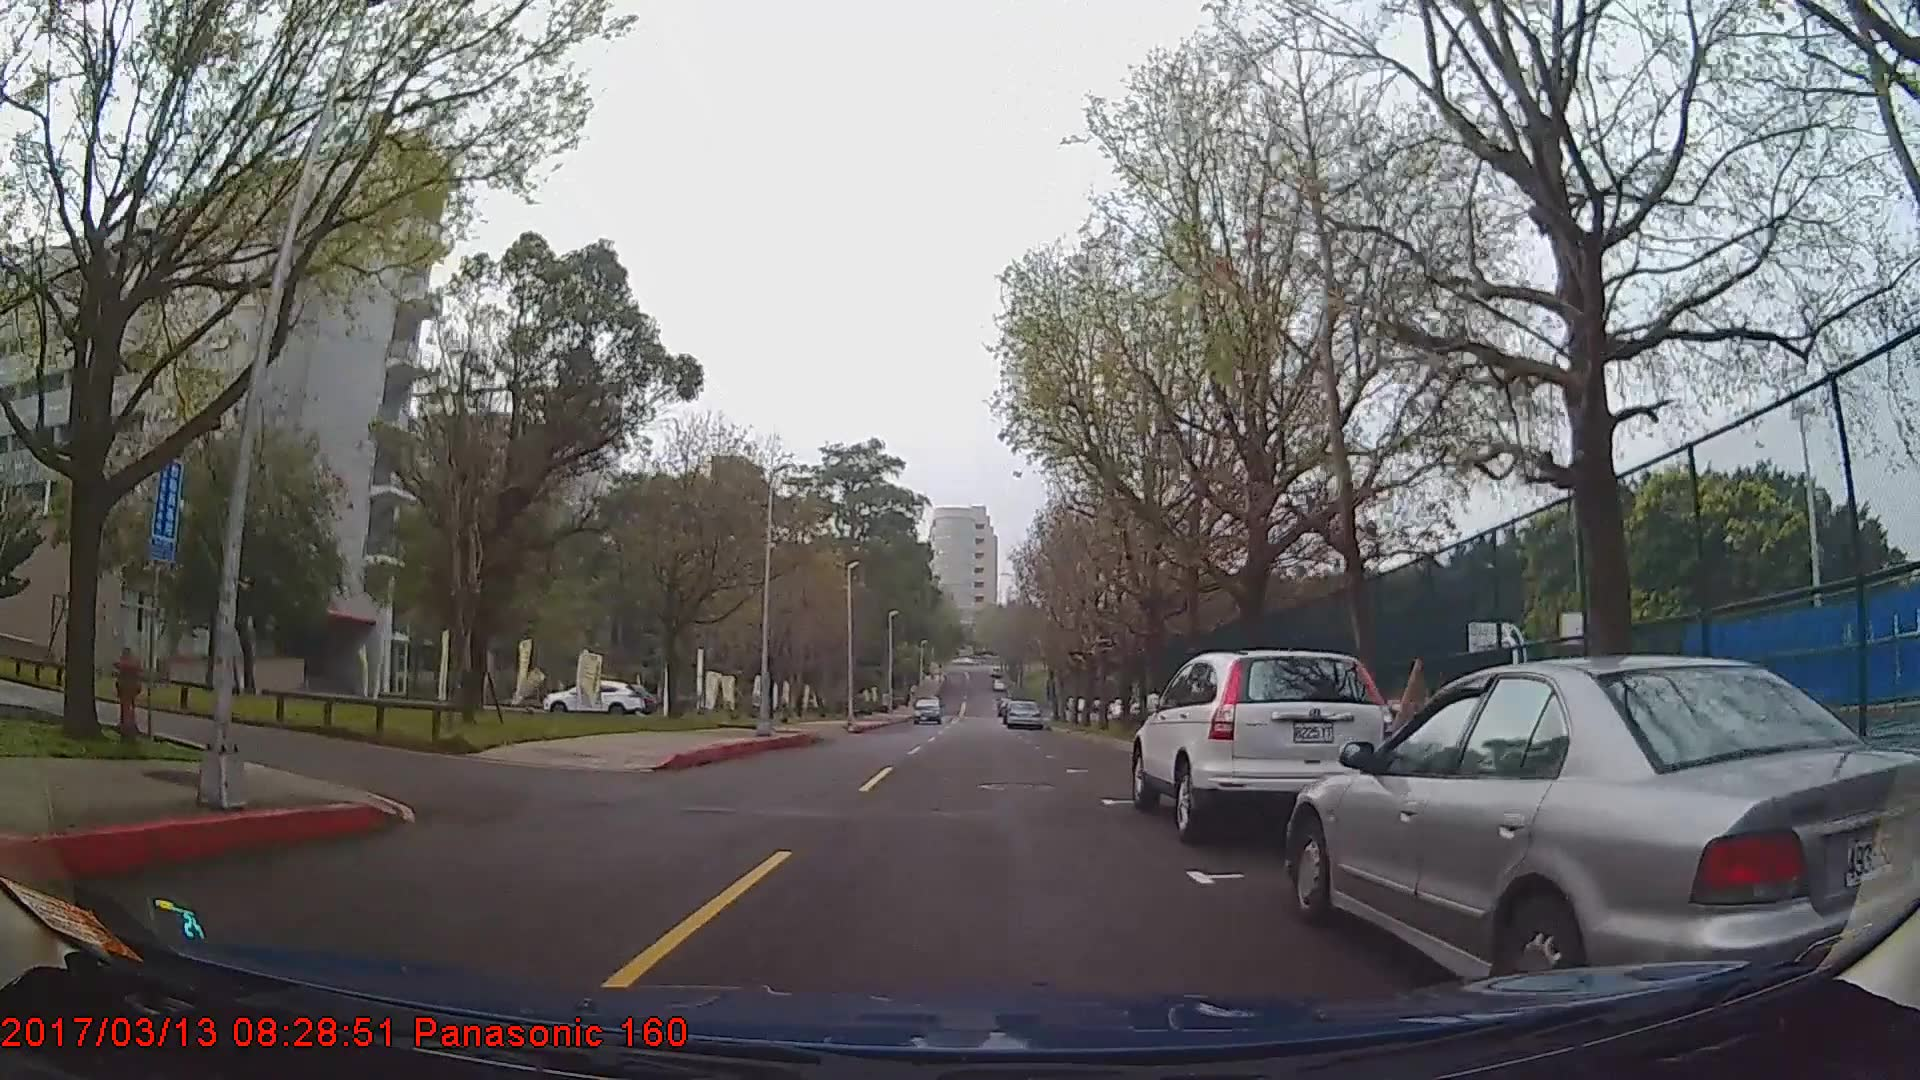vehicle: (1284, 651, 1920, 1023), (1131, 651, 1394, 843), (541, 676, 645, 716), (1004, 698, 1040, 729), (910, 694, 942, 723)
